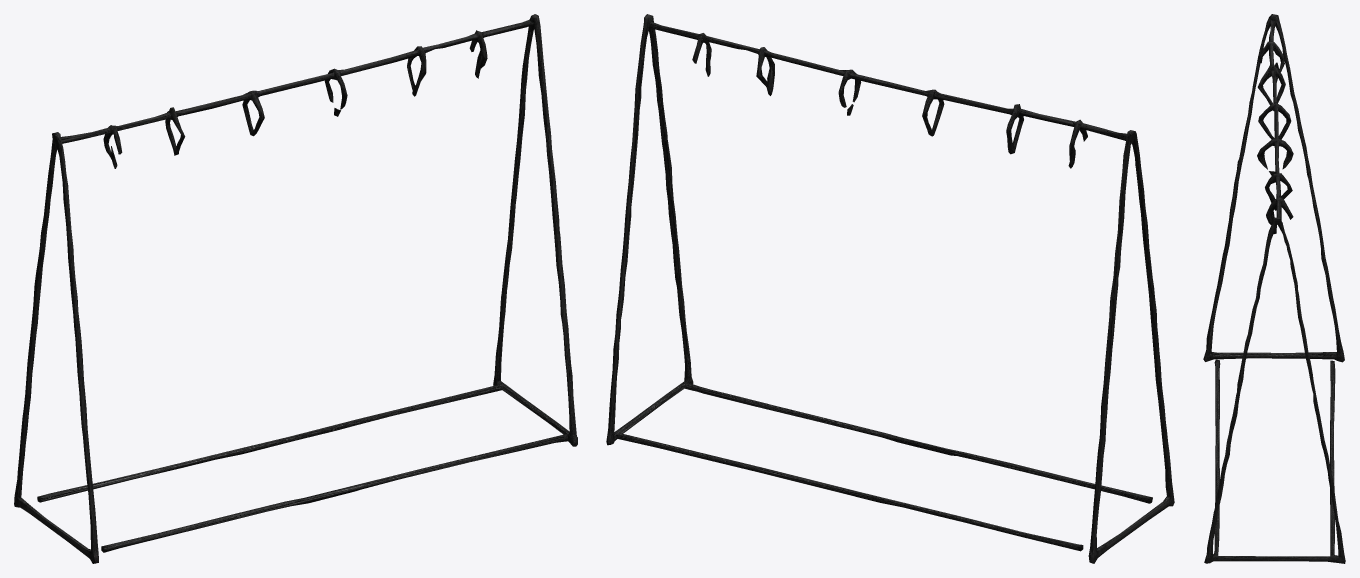
The model's file is backHanger.glb.
3 views of the same model, side by side, from view 1: azimuth 30°, elevation 25°; view 2: azimuth 150°, elevation 25°; view 3: azimuth 270°, elevation 25° (orthographic). The views are drawn at different scales.
Parts seen in each view (by area): view 1: geometry_0; view 2: geometry_0; view 3: geometry_0.
Boxes of the visible parts, x1,y1,x2,y2 form: geometry_0: [14, 14, 577, 563]; geometry_0: [606, 14, 1174, 563]; geometry_0: [1203, 14, 1345, 563].
Bounding box in the file's own units: 1 × 0.7903 × 0.2939.
Materials: 1 (1 with a texture image).
